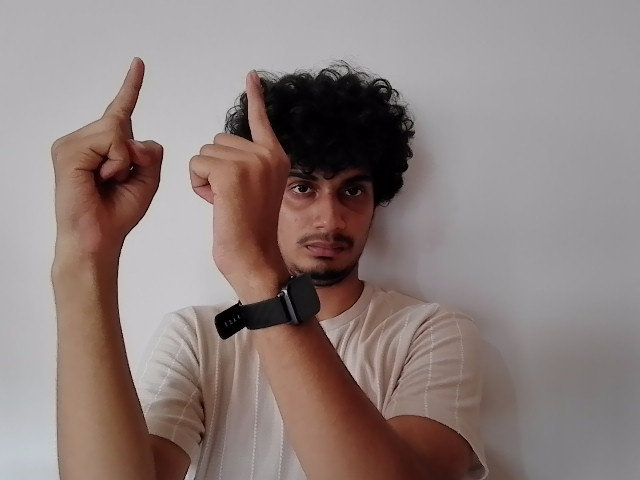play: (51, 53, 284, 252)
